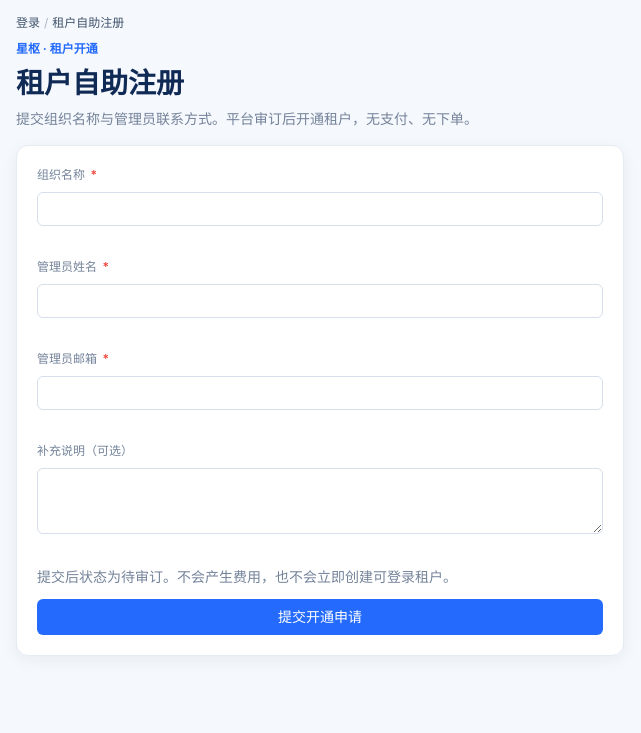
TenantSelfRegisterView › validates and submits org + admin contact without payment copy
The width and height of the screenshot is (641, 733).
Submit the form from the button with test id "register-submit", box top-left (37, 599), bottom-right (603, 635)
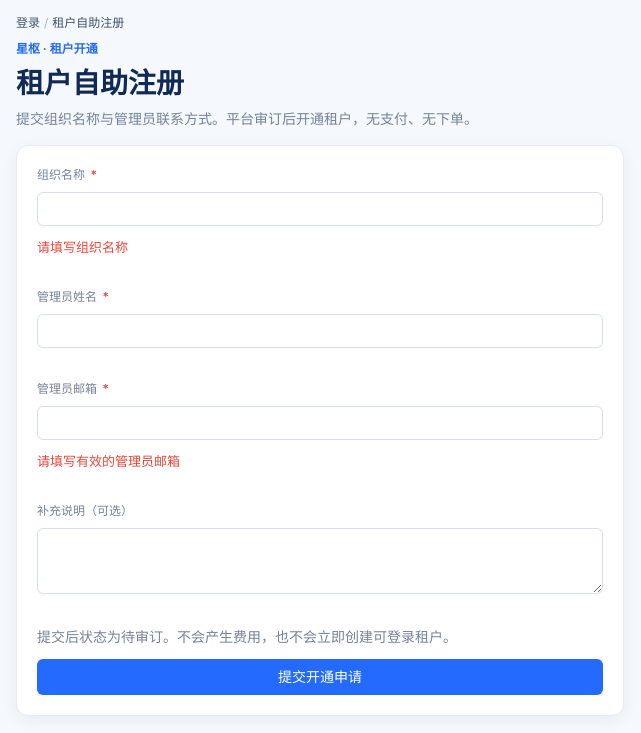
Type "示例科技" into the field with test id "register-org-name".
click(320, 209); type("示例科技")  # box top-left (37, 192), bottom-right (603, 226)
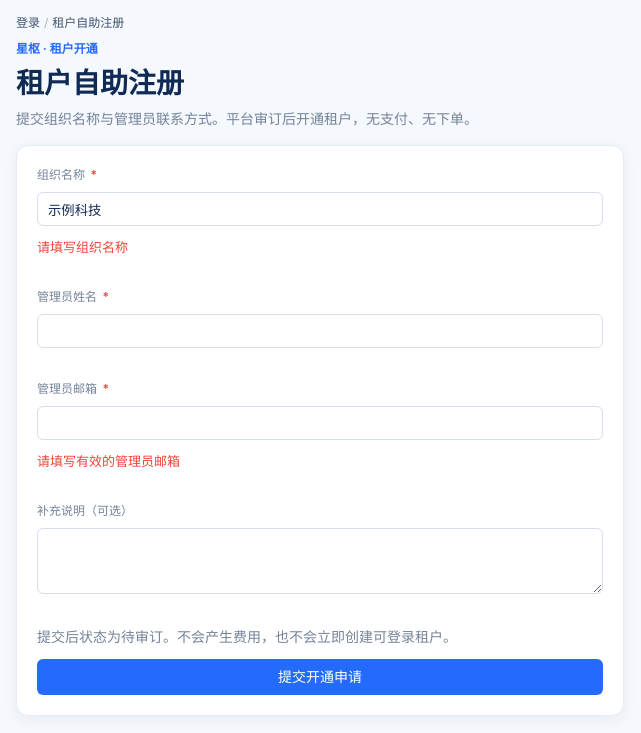
Type "张三" into the field with test id "register-admin-name".
click(320, 331); type("张三")  # box top-left (37, 314), bottom-right (603, 348)
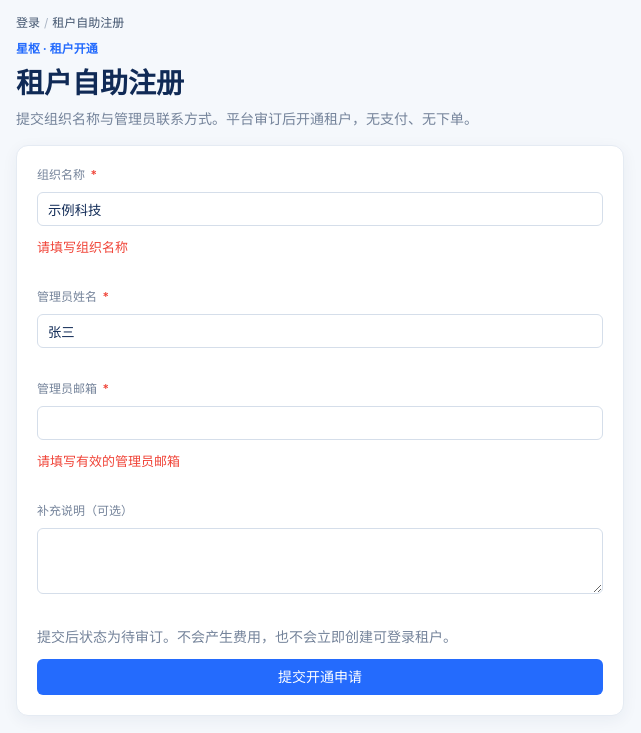
Type "zhang@example.com" into the field with test id "register-admin-email".
click(320, 423); type("zhang@example.com")  # box top-left (37, 406), bottom-right (603, 440)
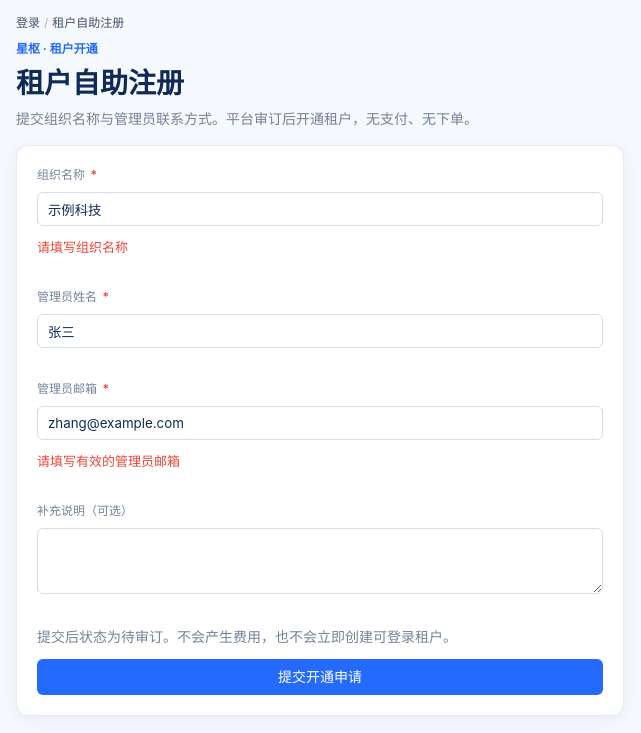
Submit the form with test id "register-form"
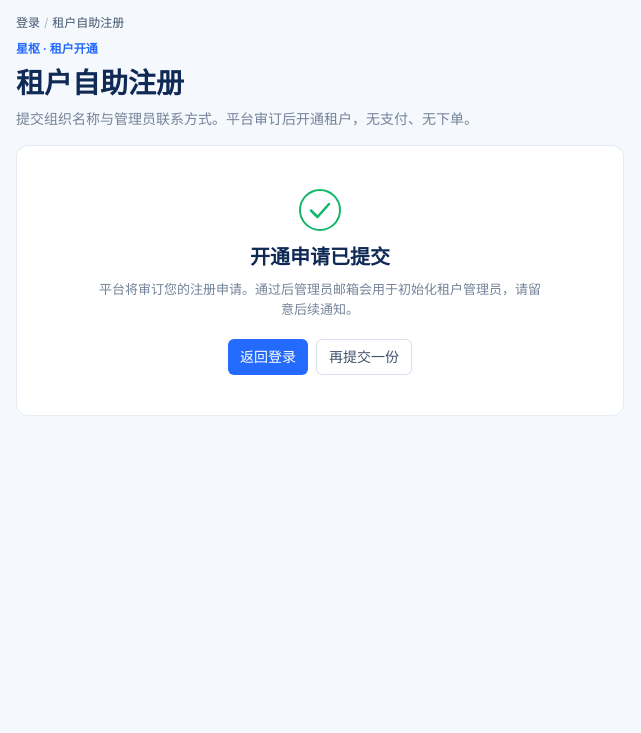
Result: the message with test id "register-result" shows "开通申请已提交" at top-left (250, 245), bottom-right (390, 269)
